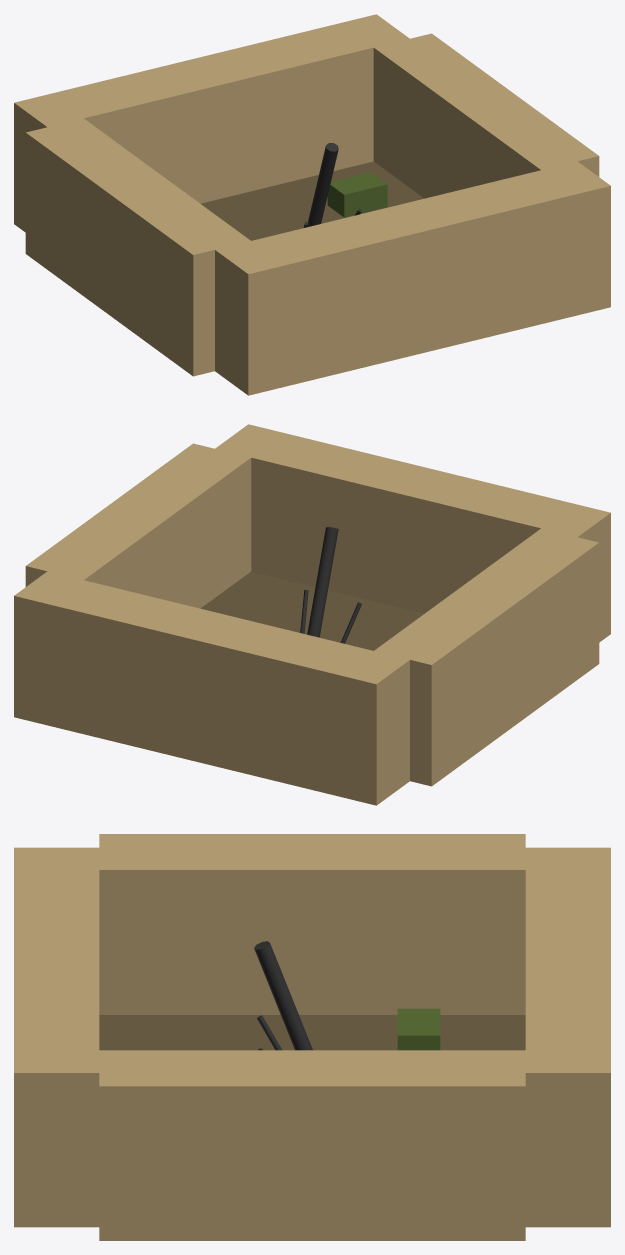
File: mortar-pit.glb
3 renders of one model, top to bottom at view 1: azimuth 30°, elevation 25°; view 2: azimuth 150°, elevation 25°; view 3: azimuth 270°, elevation 25°, orthographic. The views are drawn at different scales.
Visible parts, largest first — view 1: Mesh_SandbagFront, Mesh_SandbagBack, Mesh_SandbagLeft, Mesh_SandbagRight, Mesh_PitFloor, Mesh_AmmoCrateRight, Mesh_TubeMesh; view 2: Mesh_SandbagBack, Mesh_SandbagFront, Mesh_SandbagLeft, Mesh_SandbagRight, Mesh_PitFloor, Mesh_TubeMesh; view 3: Mesh_SandbagRight, Mesh_SandbagLeft, Mesh_SandbagFront, Mesh_SandbagBack, Mesh_PitFloor, Mesh_TubeMesh, Mesh_AmmoCrateLeft.
Boxes of the visible parts, x1,y1,x2,y2 form: Mesh_SandbagFront: (215, 161, 610, 395); Mesh_SandbagBack: (14, 14, 409, 232); Mesh_SandbagLeft: (25, 118, 250, 376); Mesh_SandbagRight: (373, 33, 599, 198); Mesh_PitFloor: (200, 161, 423, 240); Mesh_AmmoCrateRight: (327, 172, 387, 217); Mesh_TubeMesh: (308, 143, 338, 226); Mesh_SandbagBack: (14, 571, 409, 805); Mesh_SandbagFront: (215, 424, 610, 642); Mesh_SandbagLeft: (374, 528, 599, 786); Mesh_SandbagRight: (25, 443, 251, 608); Mesh_PitFloor: (201, 571, 424, 650); Mesh_TubeMesh: (307, 527, 338, 637); Mesh_SandbagRight: (99, 1050, 525, 1240); Mesh_SandbagLeft: (99, 834, 525, 1014); Mesh_SandbagFront: (14, 847, 99, 1227); Mesh_SandbagBack: (525, 847, 610, 1227); Mesh_PitFloor: (99, 1015, 525, 1050); Mesh_TubeMesh: (254, 941, 312, 1050); Mesh_AmmoCrateLeft: (397, 1008, 440, 1050).
Size of the model in its own units: 2.8 by 0.8896 by 2.8.
